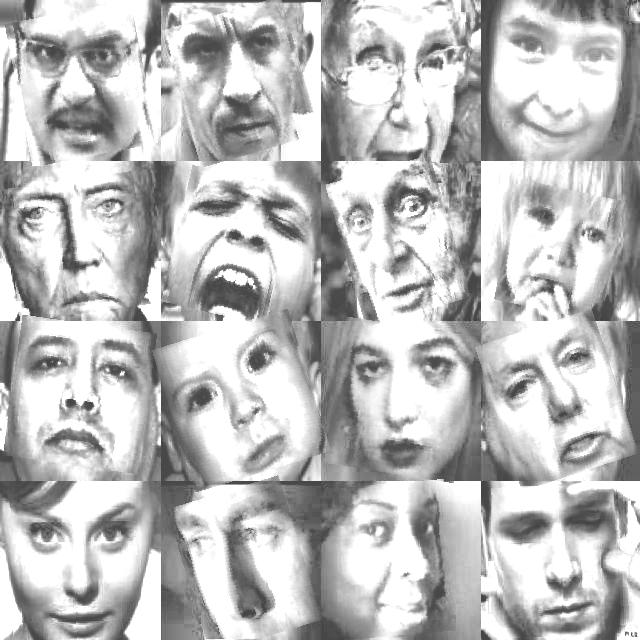angry: (485, 316, 628, 484), (170, 3, 312, 160), (168, 172, 314, 324), (12, 5, 152, 161)
fear: (333, 6, 471, 162), (334, 161, 461, 321)
happy: (10, 488, 140, 640), (492, 8, 624, 154), (336, 482, 453, 638)
neutral: (8, 320, 152, 470)
sad: (162, 317, 322, 484), (330, 322, 472, 478), (176, 482, 312, 640), (493, 482, 628, 636), (7, 176, 147, 318), (500, 184, 620, 317)
